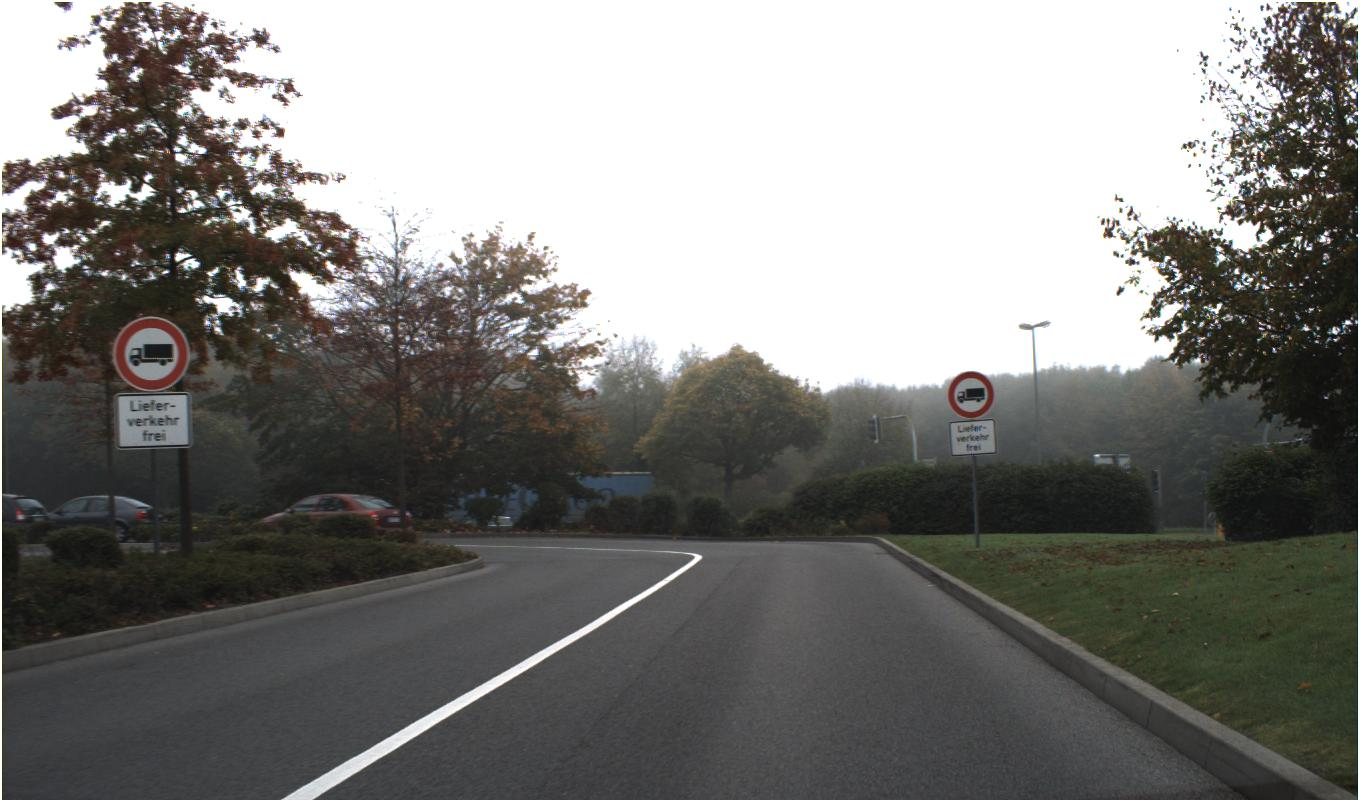prohibitory: (113, 316, 189, 392), (946, 370, 995, 419)
